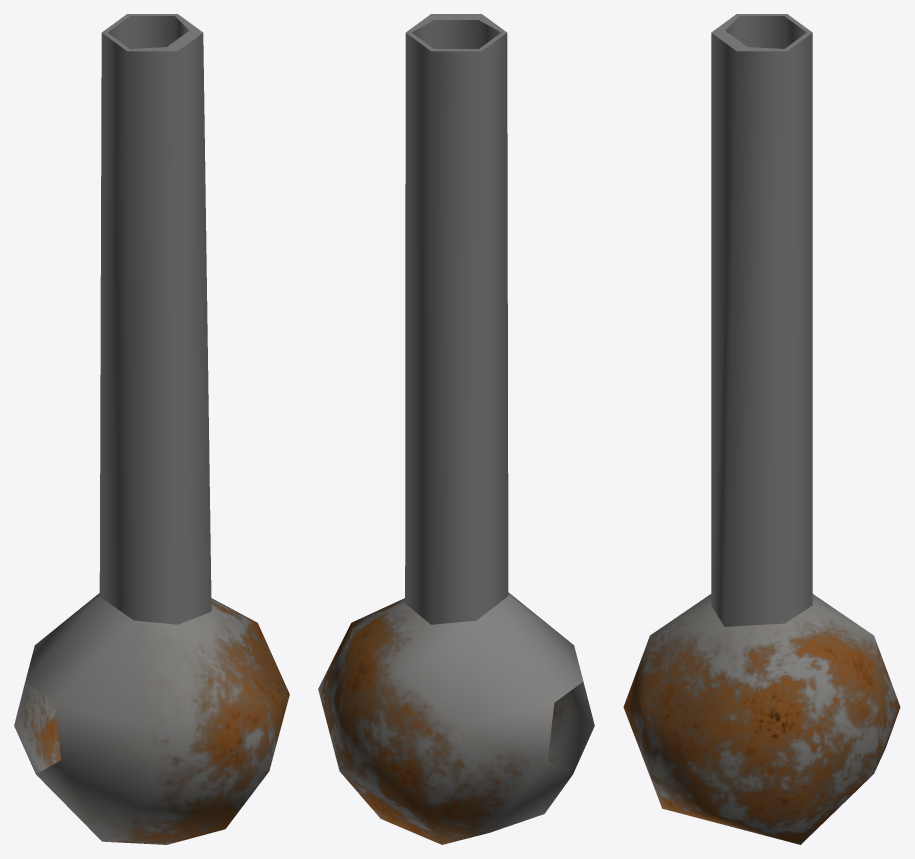
The model's file is SM_MethPipe.fbx.
3 renders of one model, left to right at view 1: azimuth 30°, elevation 25°; view 2: azimuth 150°, elevation 25°; view 3: azimuth 270°, elevation 25°, orthographic.
Parts seen in each view (by area): view 1: SM_MethPipe; view 2: SM_MethPipe; view 3: SM_MethPipe.
Part boxes in pixels (left/top/right/bottom): SM_MethPipe: left=14, top=14, right=289, bottom=844; SM_MethPipe: left=318, top=14, right=594, bottom=844; SM_MethPipe: left=623, top=14, right=900, bottom=844.
Bounding box in the file's own units: 5.45 × 17.54 × 5.55.
